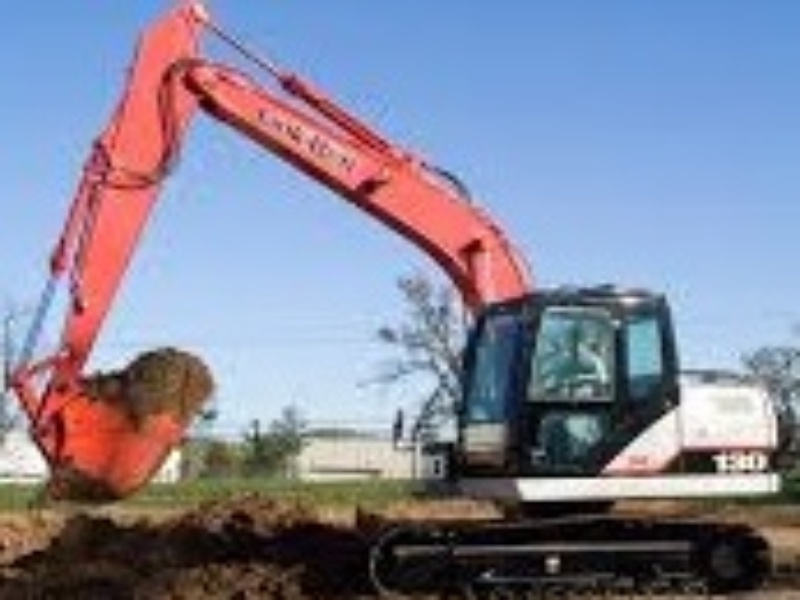wajueji: (386, 258, 780, 600)
